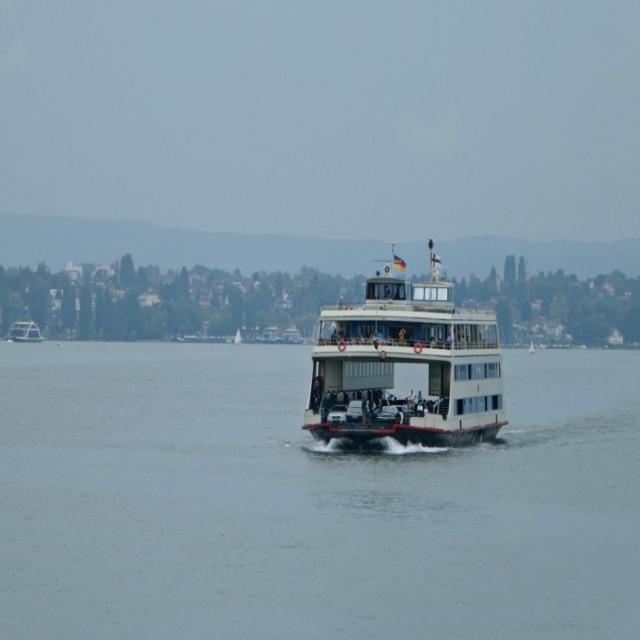passenger ship: (303, 248, 511, 454)
